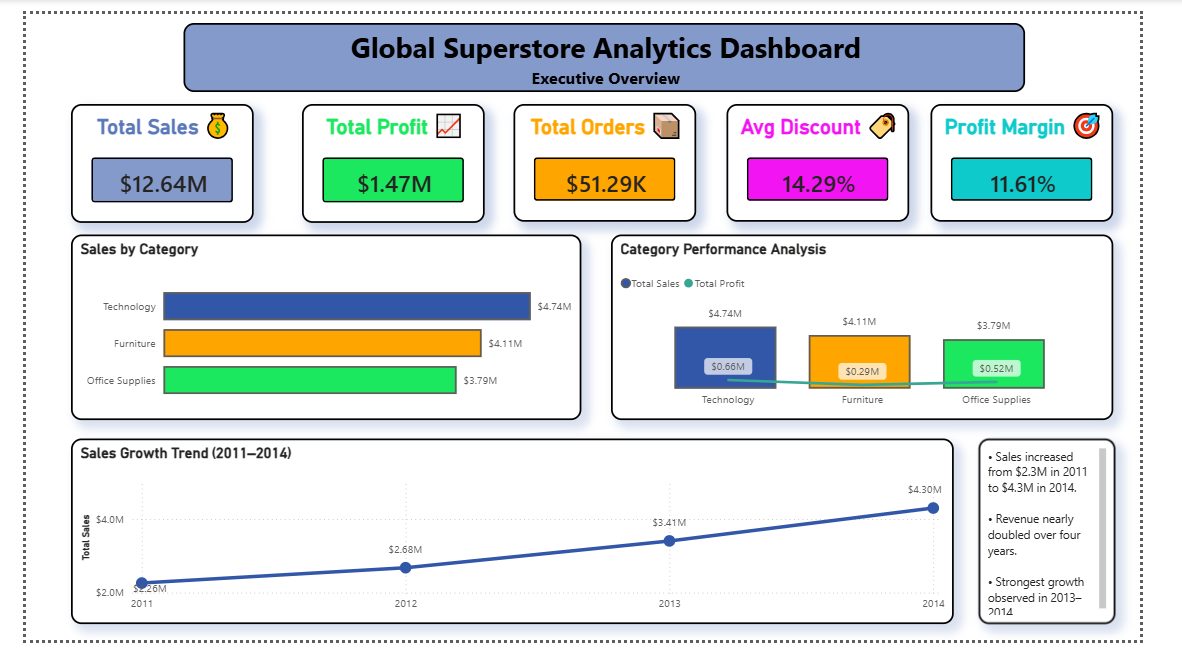

Layout of this report page (visuals, bound fields, positions):
{"tool":"powerbi","page":{"name":"Executive Overview","canvas":[1280,720],"ordinal":0},"visuals":[{"type":"cardVisual","title":"Total Sales 💰","fields":{"Data":["Measures (2).Total Sales"]},"box":[52.5,103.4,210,136.8],"z":0},{"type":"cardVisual","title":"Total Profit 📈","fields":{"Data":["Measures (2).Total Profit"]},"box":[316.5,103.4,210,136.8],"z":1000},{"type":"cardVisual","title":"Total Orders 📦","fields":{"Data":["Measures (2).Total Orders"]},"box":[559.9,103.4,210,135.2],"z":2000},{"type":"cardVisual","title":"Avg Discount 🏷️","fields":{"Data":["Measures (2).Average Discount"]},"box":[804.8,103.4,210,135.2],"z":3000},{"type":"cardVisual","title":"Profit Margin 🎯","fields":{"Data":["Measures (2).Profit Margin %"]},"box":[1040.3,103.4,210,135.2],"z":4000},{"type":"lineChart","title":"Sales Growth Trend (2011–2014)","fields":{"Y":["Measures (2).Total Sales"],"Category":["Global_Superstore.Order Year"]},"box":[52.5,488.3,1014.8,213.1],"z":5000},{"type":"textbox","box":[1094.3,488.3,157.5,213.1],"z":6000},{"type":"clusteredBarChart","title":"Sales by Category","fields":{"Category":["Global_Superstore.Category"],"Y":["Measures (2).Total Sales"]},"box":[52.5,252.9,586.9,213.1],"z":7000},{"type":"lineClusteredColumnComboChart","title":"Category Performance Analysis","fields":{"Category":["Global_Superstore.Category"],"Y2":["Measures (2).Total Profit"],"Y":["Measures (2).Total Sales"]},"box":[672.8,252.9,577.4,213.1],"z":8000},{"type":"textbox","title":"Global Superstore Analytics Dashboard","box":[181.3,11.1,967.1,79.5],"z":9000}]}

Visuals, with their boxes in screenshot pixels (x1, y1, x2, y2), scaled from the page's 1280x720 canvas onto the 1182x672 screenshot:
"Total Sales 💰" cardVisual: 48/97/242/224
"Total Profit 📈" cardVisual: 292/97/486/224
"Total Orders 📦" cardVisual: 517/97/711/223
"Avg Discount 🏷️" cardVisual: 743/97/937/223
"Profit Margin 🎯" cardVisual: 961/97/1155/223
"Sales Growth Trend (2011–2014)" lineChart: 48/456/986/655
textbox: 1011/456/1156/655
"Sales by Category" clusteredBarChart: 48/236/590/435
"Category Performance Analysis" lineClusteredColumnComboChart: 621/236/1154/435
"Global Superstore Analytics Dashboard" textbox: 167/10/1060/85
